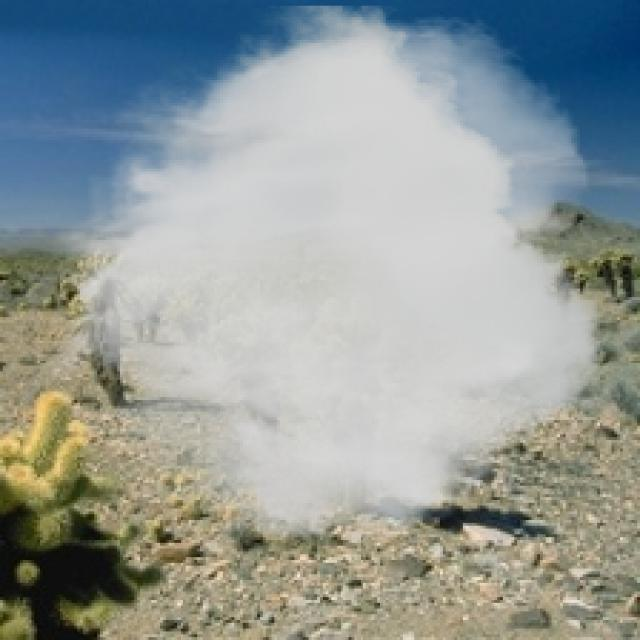Smoke: (37, 6, 600, 548)
